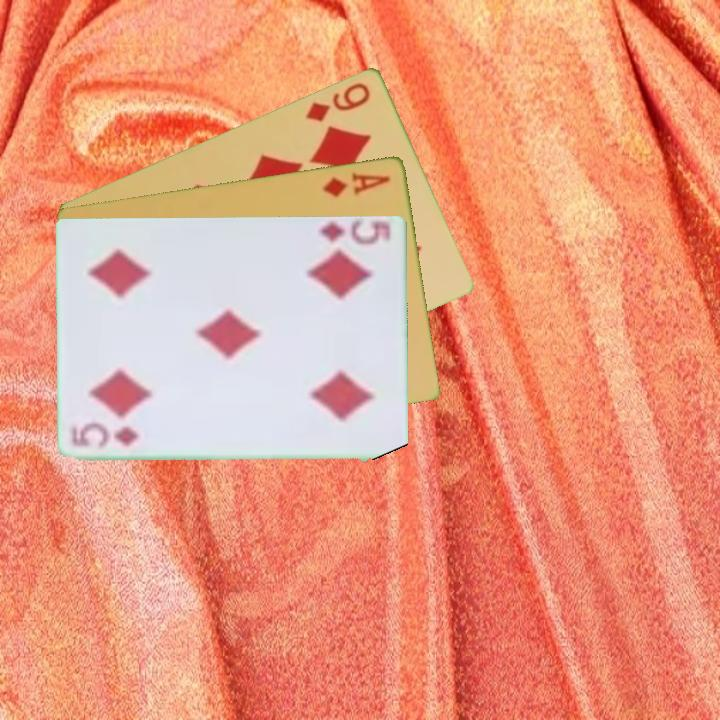5d: (315, 218, 392, 247), (68, 426, 142, 452)
9d: (302, 78, 374, 124)
Ad: (320, 168, 394, 200)
